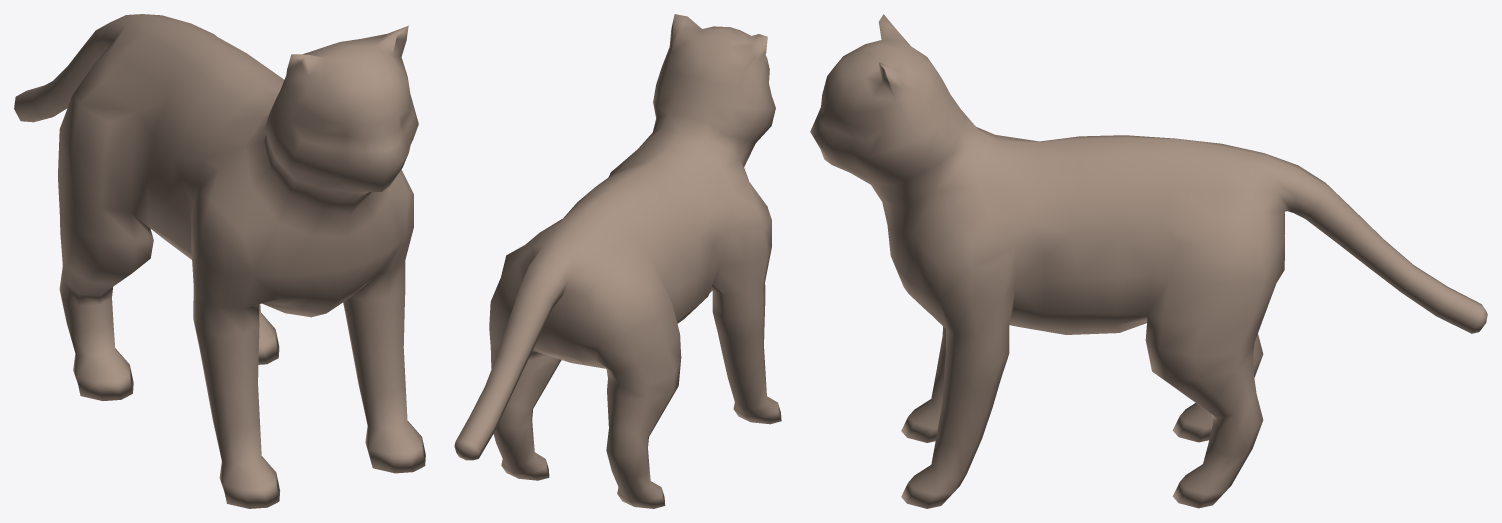
Rendered from cat.fbx.
3 renders of one model, left to right at view 1: azimuth 30°, elevation 25°; view 2: azimuth 150°, elevation 25°; view 3: azimuth 270°, elevation 25°, orthographic. The views are drawn at different scales.
Visible parts, largest first — view 1: Cat:cat; view 2: Cat:cat; view 3: Cat:cat.
Part boxes in pixels (x1,y1,x2,y2): Cat:cat: (14, 14, 425, 508); Cat:cat: (454, 14, 781, 508); Cat:cat: (810, 14, 1487, 508).
Size of the model in its own units: 22.25 by 44.41 by 64.41.
